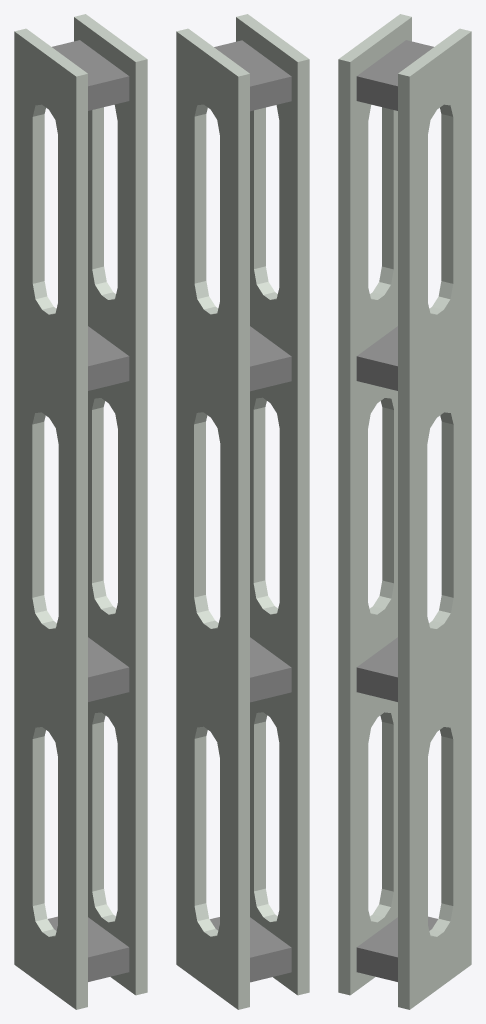
File: Dock_Column_01.glb
3 renders of one model, left to right at view 1: azimuth 30°, elevation 25°; view 2: azimuth 210°, elevation 25°; view 3: azimuth 330°, elevation 25°, orthographic.
Visible parts, largest first — view 1: Dock_Column_01; view 2: Dock_Column_01; view 3: Dock_Column_01.
Boxes of the visible parts, x1,y1,x2,y2 form: Dock_Column_01: [14, 14, 147, 1009]; Dock_Column_01: [176, 14, 309, 1009]; Dock_Column_01: [338, 14, 471, 1009].
Size of what is drawn, in the model's own units: 0.24 by 3 by 0.36.
Materials: 1 (1 with a texture image).
